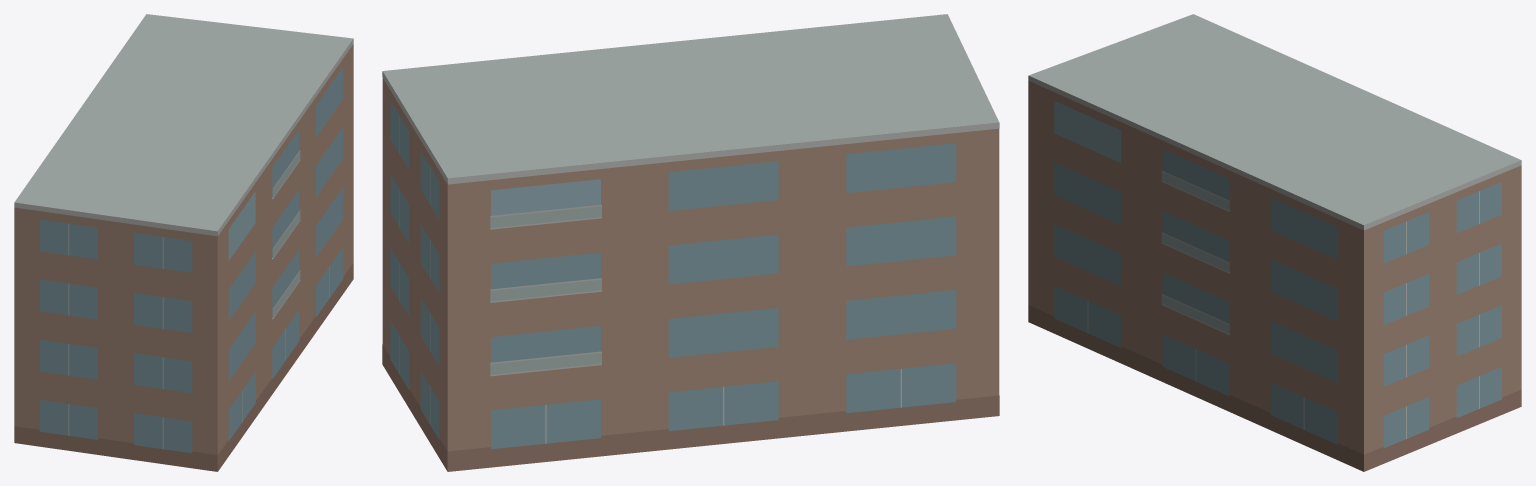
File: survey-upis-33016228.glb
3 renders of one model, left to right at view 1: azimuth 30°, elevation 25°; view 2: azimuth 150°, elevation 25°; view 3: azimuth 270°, elevation 25°, orthographic. The views are drawn at different scales.
Parts seen in each view (by area): view 1: survey-upis-33016228.tmp; view 2: survey-upis-33016228.tmp; view 3: survey-upis-33016228.tmp.
Part boxes in pixels (x1,y1,x2,y2): survey-upis-33016228.tmp: (14, 14, 353, 471); survey-upis-33016228.tmp: (382, 14, 999, 471); survey-upis-33016228.tmp: (1028, 14, 1521, 471).
Bounding box in the file's own units: 21.52 × 11.7 × 21.22.
